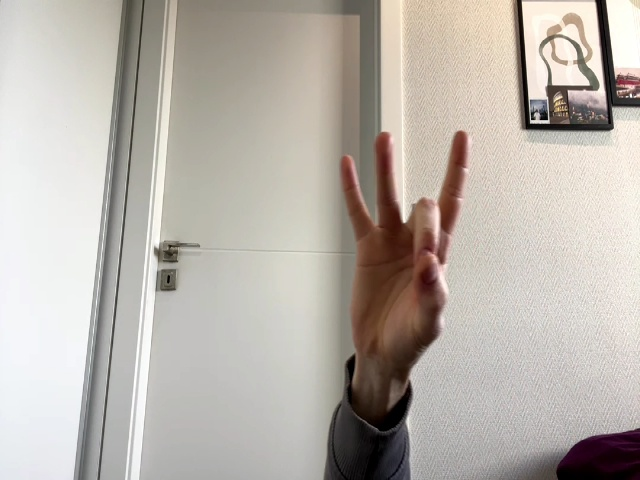G: (340, 131, 470, 357)
